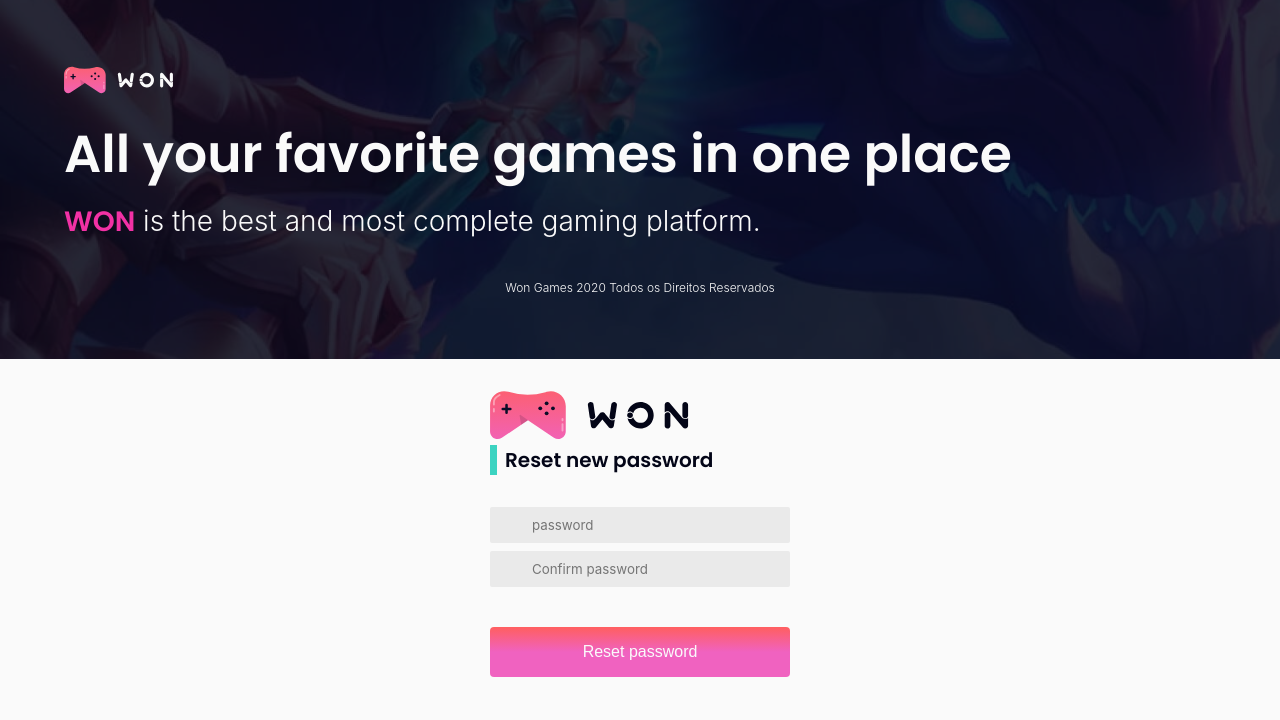
Test: Reset Password › should be able show error if password does not match
In the password field with placeholder "password": {"x": 652, "y": 525} [532, 509, 772, 541], type "123"
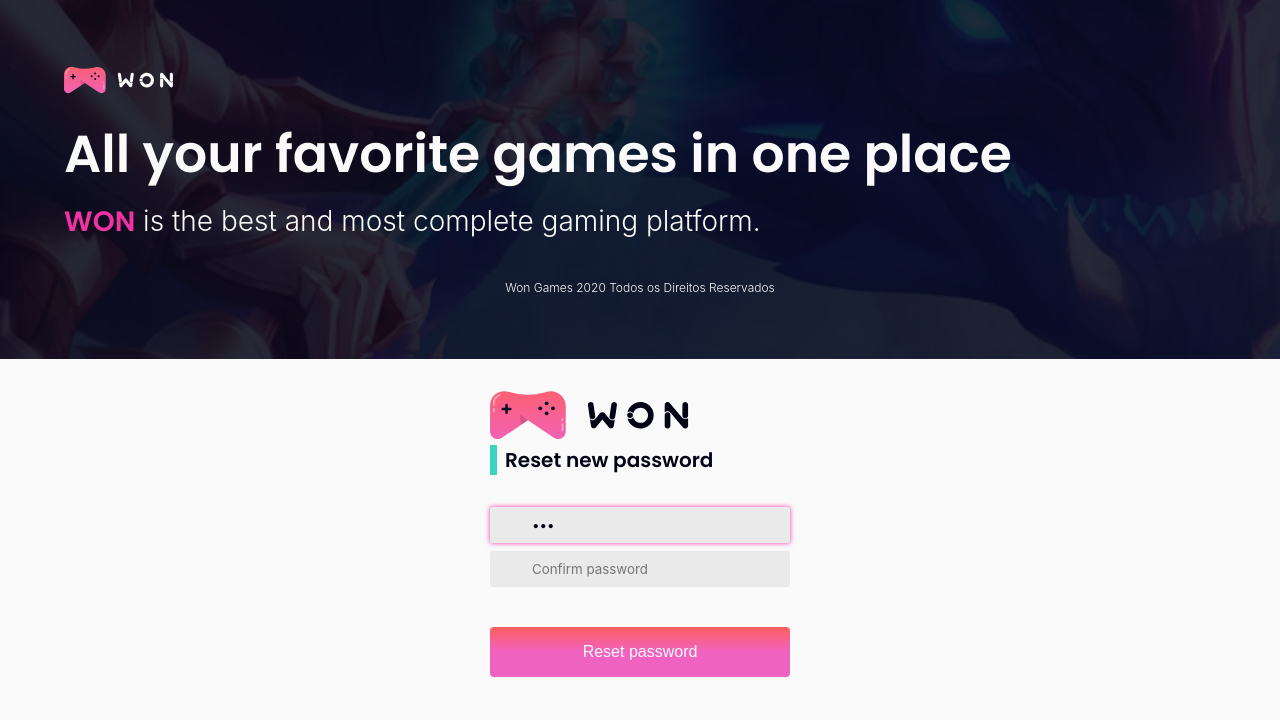
In the password field with placeholder "Confirm password": {"x": 652, "y": 569} [532, 553, 772, 585], type "123456"
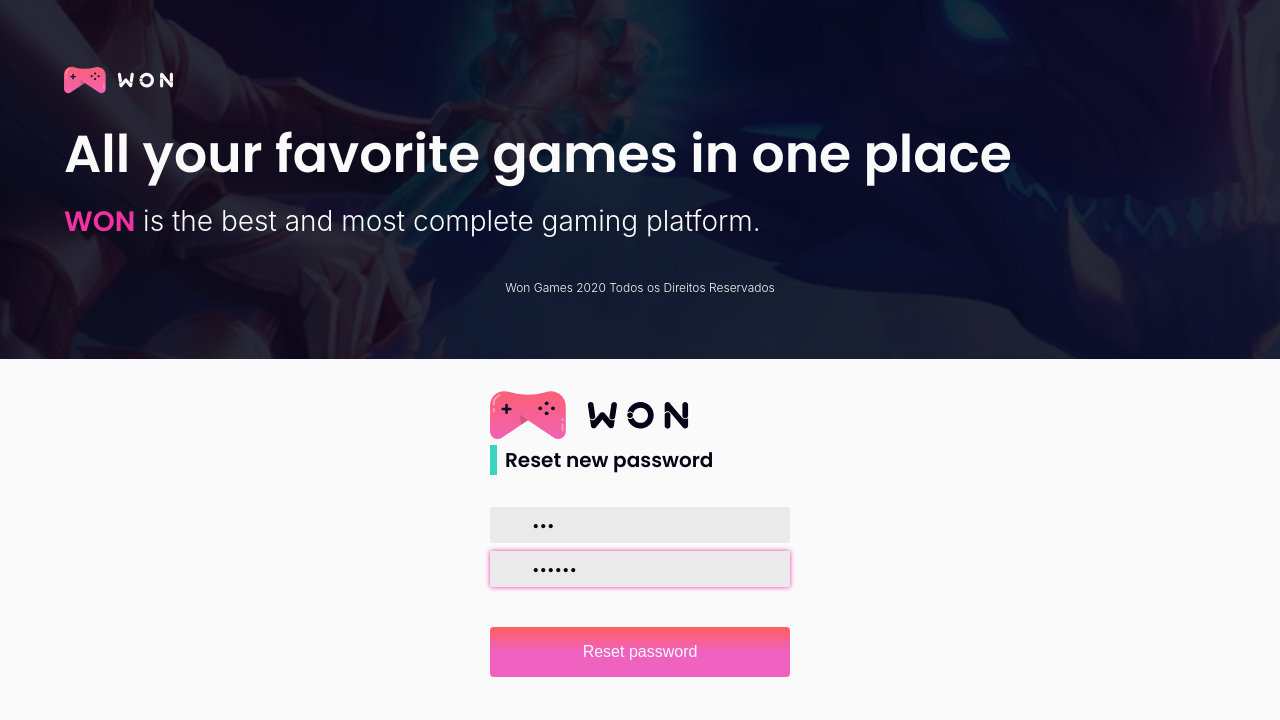
Click the button "Reset password": {"x": 640, "y": 652} [490, 627, 790, 677]
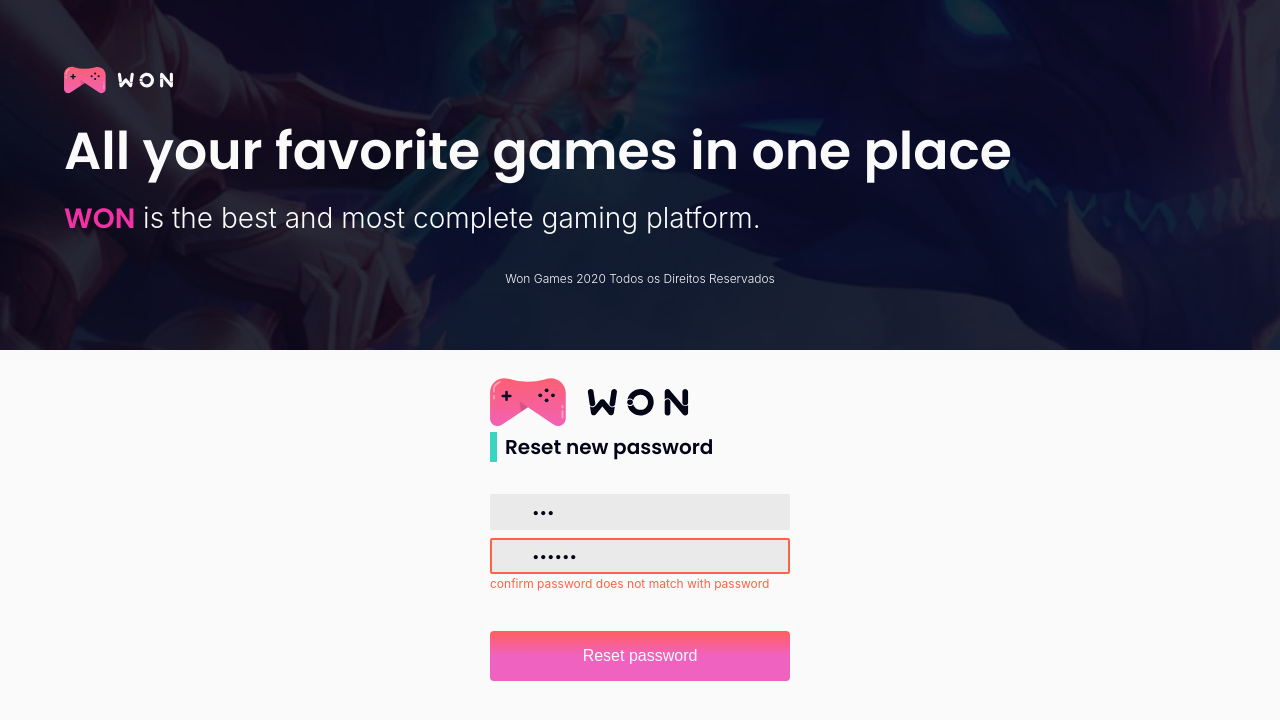
Expected: the text "confirm password does not match with password" is shown, [490, 576, 770, 591]
